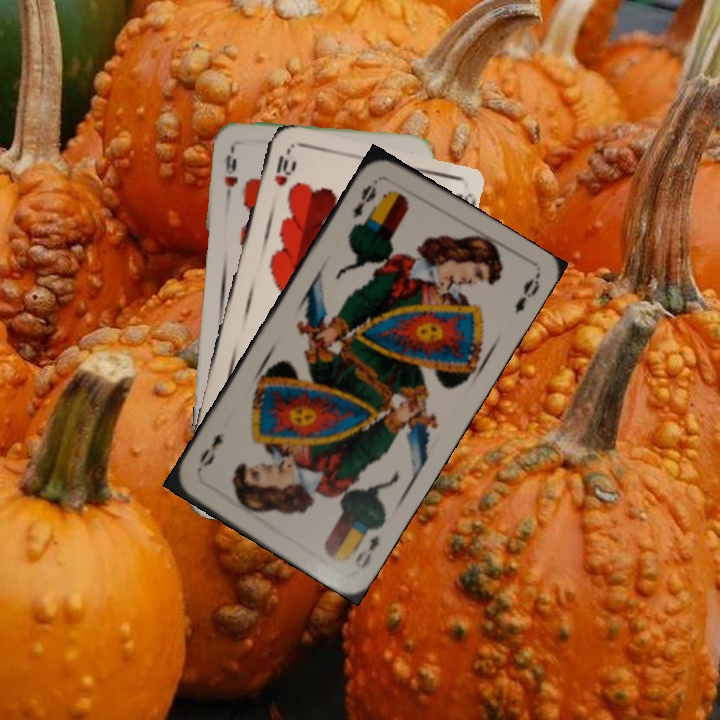EO: (350, 531, 382, 572), (349, 180, 379, 222)
H10: (270, 147, 293, 188)
H9: (219, 144, 240, 203)
